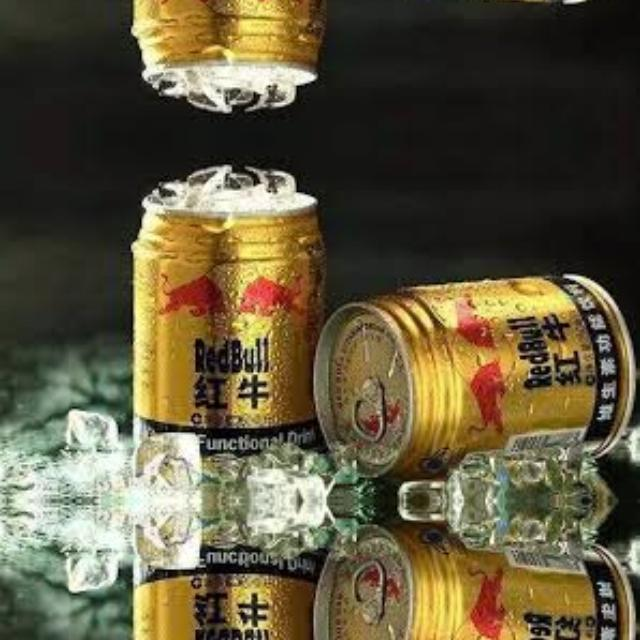Metal: (314, 273, 634, 477), (132, 192, 322, 458), (313, 524, 634, 640), (131, 543, 322, 640), (131, 0, 322, 84), (313, 0, 634, 3)
